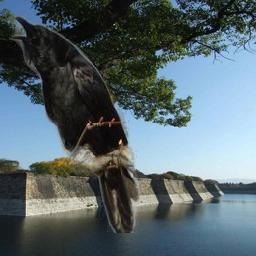Crow: (10, 11, 141, 233)
